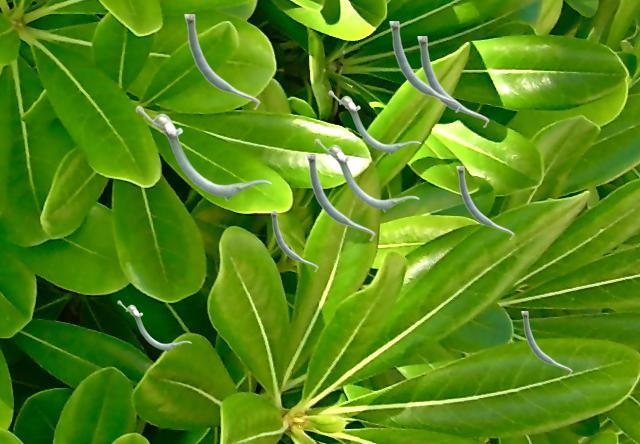french_bean: (135, 105, 271, 200), (314, 138, 418, 211), (184, 14, 259, 109), (417, 36, 488, 127), (389, 21, 460, 112), (328, 90, 420, 154), (306, 154, 374, 240), (456, 166, 513, 239), (117, 300, 190, 351), (521, 311, 571, 375), (270, 211, 317, 271)
